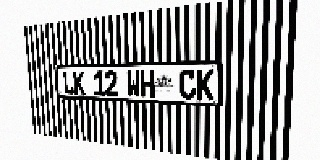1: (93, 71, 105, 96)
2: (105, 71, 118, 96)
C: (179, 69, 196, 99)
H: (140, 70, 155, 98)
K: (196, 69, 214, 100), (73, 71, 85, 95)
L: (63, 71, 74, 95)
W: (126, 70, 140, 97)
